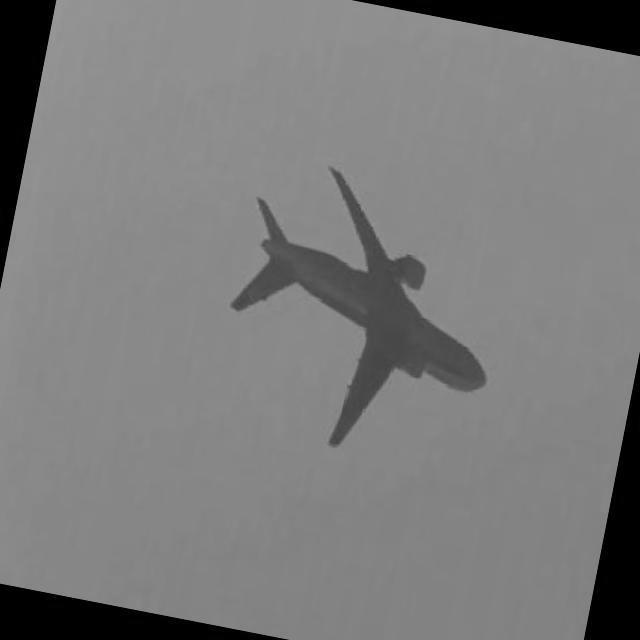aeroplane: (193, 143, 524, 485)
